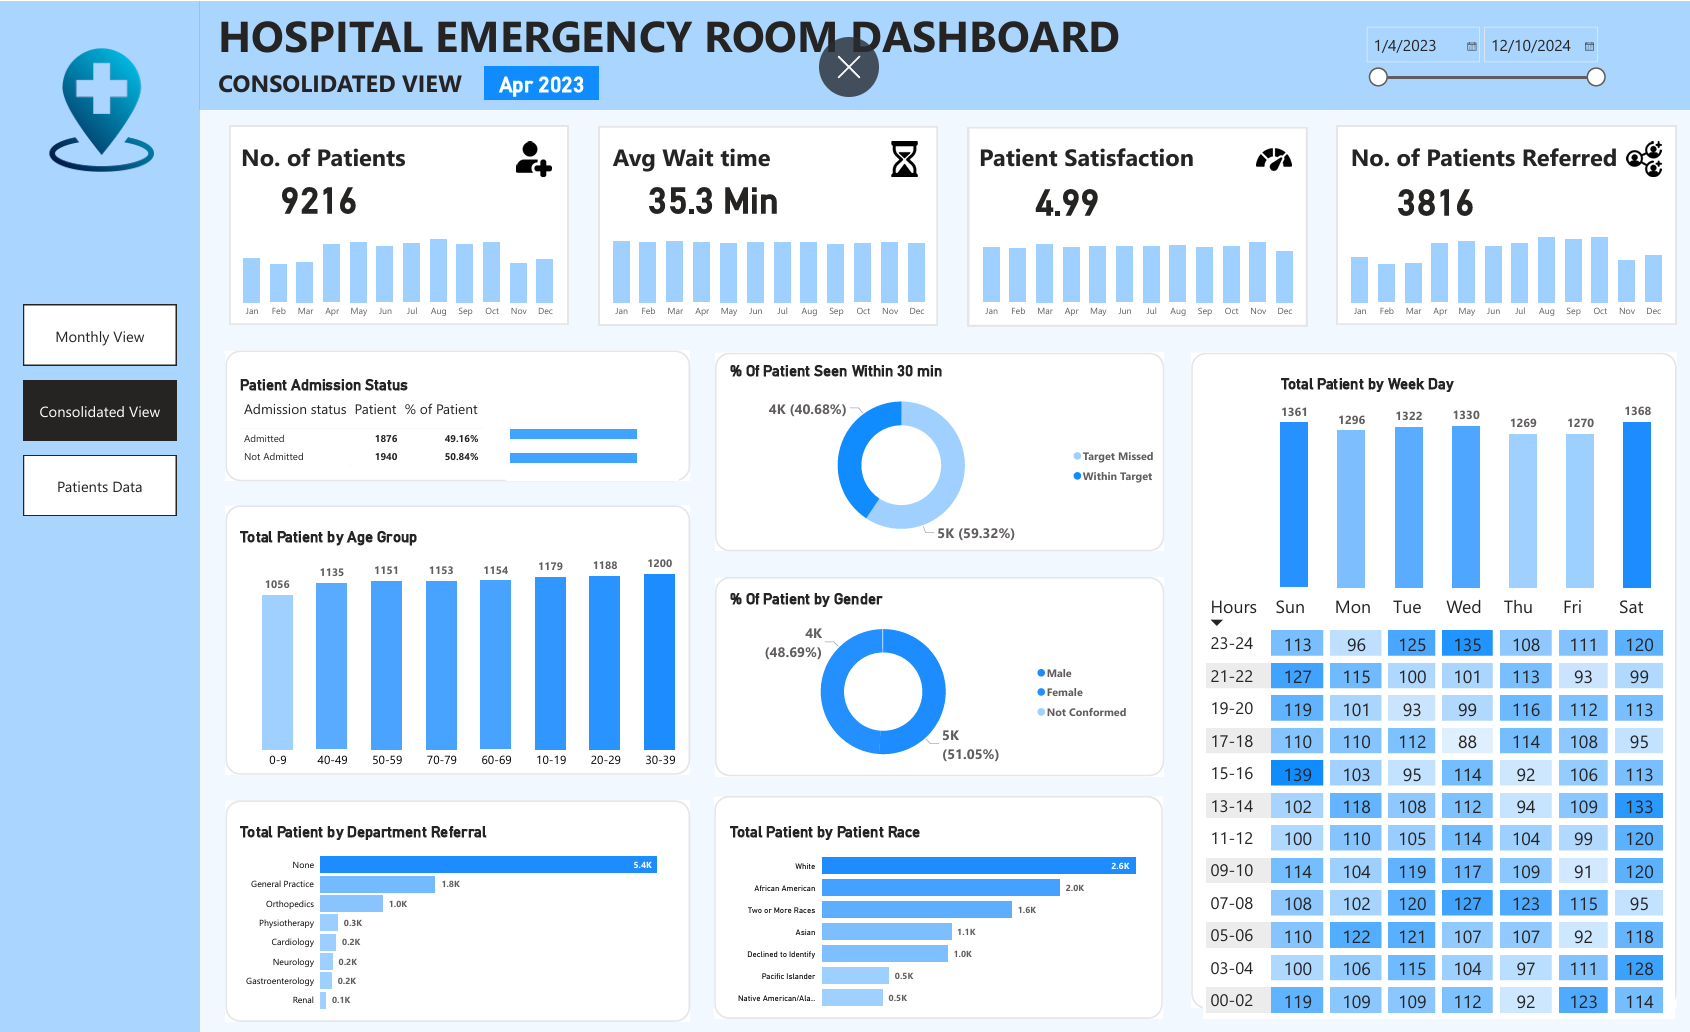

What the dashboard file says about the page in this screenshot:
{"tool":"powerbi","page":{"name":"Consolidated View","canvas":[2300,1400],"ordinal":1},"visuals":[{"type":"shape","box":[310,167.5,460,270],"z":0},{"type":"card","fields":{"Values":["Hospital ER_Data.Total Patient"]},"box":[305,225,252.5,77.5],"z":1000},{"type":"shape","box":[270,0,2030,147],"z":2000},{"type":"slicer","fields":{"Values":["Date.Date"]},"box":[1840.4,23.8,344.8,102.2],"z":3000},{"type":"shape","box":[0,0,270,1400],"z":5000},{"type":"textbox","box":[290,0,1262.5,97.5],"z":6000},{"type":"textbox","box":[290.1,83.2,370.9,57.1],"z":7000},{"type":"textbox","box":[321,183.1,285.3,59.4],"z":8000},{"type":"columnChart","fields":{"Category":["Date.Month"],"Y":["CountNonNull(Hospital ER_Data.Admission Date)"]},"box":[310,302.5,460,135],"z":9000},{"type":"card","fields":{"Values":["Min(Date.Month and Year)"]},"box":[656.3,88,154.6,45.2],"z":10000},{"type":"shape","box":[810.8,169.2,460,270],"z":11000},{"type":"shape","box":[1311.7,170,460,270],"z":12000},{"type":"shape","box":[1812.5,168.3,460,270],"z":13000},{"type":"textbox","box":[825.1,183.1,285.3,59.4],"z":14000},{"type":"card","fields":{"Values":["Hospital ER_Data.Avg wait time"]},"box":[860,225,212.5,77.5],"z":15000},{"type":"columnChart","fields":{"Y":["Avg(Hospital ER_Data.Patient Waittime)"],"Category":["Date.Month"]},"box":[810.8,302,463.7,135.5],"z":16000},{"type":"textbox","box":[1322,183.1,458.9,59.4],"z":17000},{"type":"textbox","box":[1826.1,183.1,378.1,59.4],"z":18000},{"type":"card","fields":{"Values":["Hospital ER_Data.Score of Satisfication"]},"box":[1340,227.5,212.5,77.5],"z":19000},{"type":"card","fields":{"Values":["Hospital ER_Data.No of patient ref"]},"box":[1840,227.5,212.5,77.5],"z":20000},{"type":"columnChart","fields":{"Category":["Date.Month"],"Y":["Avg(Hospital ER_Data.Patient Satisfaction Score)"]},"box":[1312.5,302.5,460,135],"z":21000},{"type":"columnChart","fields":{"Category":["Date.Month"],"Y":["Hospital ER_Data.No of patient ref"]},"box":[1812.5,302.5,460,135],"z":22000},{"type":"shape","box":[305,472.5,630,177.5],"z":23000},{"type":"pivotTable","title":"Patient Admission Status","fields":{"Rows":["Hospital ER_Data.Admission status"],"Values":["Hospital ER_Data.No of patient ref1","Hospital ER_Data.No of patient ref"]},"box":[320,507.5,490,155],"z":24000},{"type":"barChart","fields":{"Category":["Hospital ER_Data.Admission status"],"Y":["Hospital ER_Data.Total Patient"]},"box":[686,550.1,234.5,98.6],"z":25000},{"type":"shape","box":[305,682.5,630,365],"z":26000},{"type":"clusteredColumnChart","fields":{"Category":["Hospital ER_Data.Age Group"],"Y":["Hospital ER_Data.Total Patient"]},"box":[320,714.5,631.2,335.3],"z":27000},{"type":"shape","box":[305,1082.5,630,300],"z":28000},{"type":"clusteredBarChart","fields":{"Category":["Hospital ER_Data.Department Referral"],"Y":["Hospital ER_Data.Total Patient"]},"box":[320,1113.3,600.5,267.4],"z":29000},{"type":"shape","box":[968.7,475.6,609.3,269.6],"z":30000},{"type":"donutChart","title":"% Of Patient Seen Within 30 min","fields":{"Category":["Hospital ER_Data.Waittime"],"Y":["Hospital ER_Data.Total Patient"]},"box":[984,488.7,593.9,256.4],"z":31000},{"type":"shape","box":[968.7,780.2,609.3,269.6],"z":32000},{"type":"donutChart","title":"% Of Patient by Gender","fields":{"Y":["Hospital ER_Data.Total Patient"],"Category":["Hospital ER_Data.Patient Gender"]},"box":[984.4,796.5,556.4,254.4],"z":33000},{"type":"shape","box":[967.7,1077.1,608.7,302],"z":34000},{"type":"clusteredBarChart","fields":{"Y":["Hospital ER_Data.Total Patient"],"Category":["Hospital ER_Data.Patient Race"]},"box":[984.4,1112.8,584.9,266.3],"z":35000},{"type":"shape","box":[1615.2,475.6,657.5,889.8],"z":36000},{"type":"pivotTable","fields":{"Rows":["Hospital ER_Data.Waittime interval"],"Columns":["Date.Week Day"],"Values":["Hospital ER_Data.Total Patient"]},"box":[1631.1,796.5,639.6,582.5],"z":37000},{"type":"columnChart","fields":{"Category":["Date.Week Day"],"Y":["Hospital ER_Data.Total Patient"]},"box":[1731,506.5,516,294.8],"z":38000},{"type":"image","box":[47.6,49.9,178.3,192.6],"z":39000},{"type":"image","box":[680,185.5,88,57.1],"z":40000},{"type":"image","box":[1181.7,185.5,88,57.1],"z":41000},{"type":"image","box":[2185.1,185.5,88,57.1],"z":42000},{"type":"image","box":[1683.4,185.5,88,57.1],"z":43000},{"type":"pageNavigator","box":[30.9,411.3,206.9,287.7],"z":43002}]}

Visuals, with their boxes in screenshot pixels (x1, y1, x2, y2), scaled from the page's 2300x1400 canvas onto the 1690x1032 screenshot:
shape: 228, 123, 566, 322
card - Hospital ER_Data.Total Patient: 224, 166, 410, 223
shape: 198, 0, 1689, 108
slicer - Date.Date: 1352, 18, 1606, 93
shape: 0, 0, 198, 1031
textbox: 213, 0, 1141, 72
textbox: 213, 61, 486, 103
textbox: 236, 135, 445, 179
columnChart - Date.Month x CountNonNull(Hospital ER_Data.Admission Date): 228, 223, 566, 322
card - Min(Date.Month and Year): 482, 65, 596, 98
shape: 596, 125, 934, 324
shape: 964, 125, 1302, 324
shape: 1332, 124, 1670, 323
textbox: 606, 135, 816, 179
card - Hospital ER_Data.Avg wait time: 632, 166, 788, 223
columnChart - Avg(Hospital ER_Data.Patient Waittime) x Date.Month: 596, 223, 936, 322
textbox: 971, 135, 1309, 179
textbox: 1342, 135, 1620, 179
card - Hospital ER_Data.Score of Satisfication: 985, 168, 1141, 225
card - Hospital ER_Data.No of patient ref: 1352, 168, 1508, 225
columnChart - Date.Month x Avg(Hospital ER_Data.Patient Satisfaction Score): 964, 223, 1302, 322
columnChart - Date.Month x Hospital ER_Data.No of patient ref: 1332, 223, 1670, 322
shape: 224, 348, 687, 479
"Patient Admission Status" pivotTable: 235, 374, 595, 488
barChart - Hospital ER_Data.Admission status x Hospital ER_Data.Total Patient: 504, 406, 676, 478
shape: 224, 503, 687, 772
clusteredColumnChart - Hospital ER_Data.Age Group x Hospital ER_Data.Total Patient: 235, 527, 699, 774
shape: 224, 798, 687, 1019
clusteredBarChart - Hospital ER_Data.Department Referral x Hospital ER_Data.Total Patient: 235, 821, 676, 1018
shape: 712, 351, 1159, 549
"% Of Patient Seen Within 30 min" donutChart: 723, 360, 1159, 549
shape: 712, 575, 1159, 774
"% Of Patient by Gender" donutChart: 723, 587, 1132, 775
shape: 711, 794, 1158, 1017
clusteredBarChart - Hospital ER_Data.Total Patient x Hospital ER_Data.Patient Race: 723, 820, 1153, 1017
shape: 1187, 351, 1670, 1006
pivotTable - Hospital ER_Data.Waittime interval x Date.Week Day: 1199, 587, 1668, 1017
columnChart - Date.Week Day x Hospital ER_Data.Total Patient: 1272, 373, 1651, 591
image: 35, 37, 166, 179
image: 500, 137, 564, 179
image: 868, 137, 933, 179
image: 1606, 137, 1670, 179
image: 1237, 137, 1302, 179
pageNavigator: 23, 303, 175, 515
